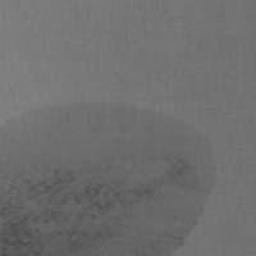Oil spot: (0, 102, 219, 256)
